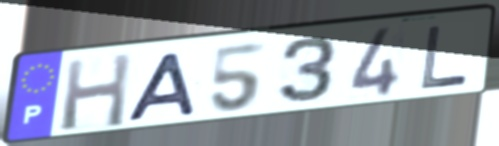3: (276, 35, 342, 106)
4: (348, 25, 404, 100)
5: (206, 39, 263, 114)
A: (123, 49, 201, 124)
H: (58, 50, 134, 134)
L: (419, 23, 472, 90)
